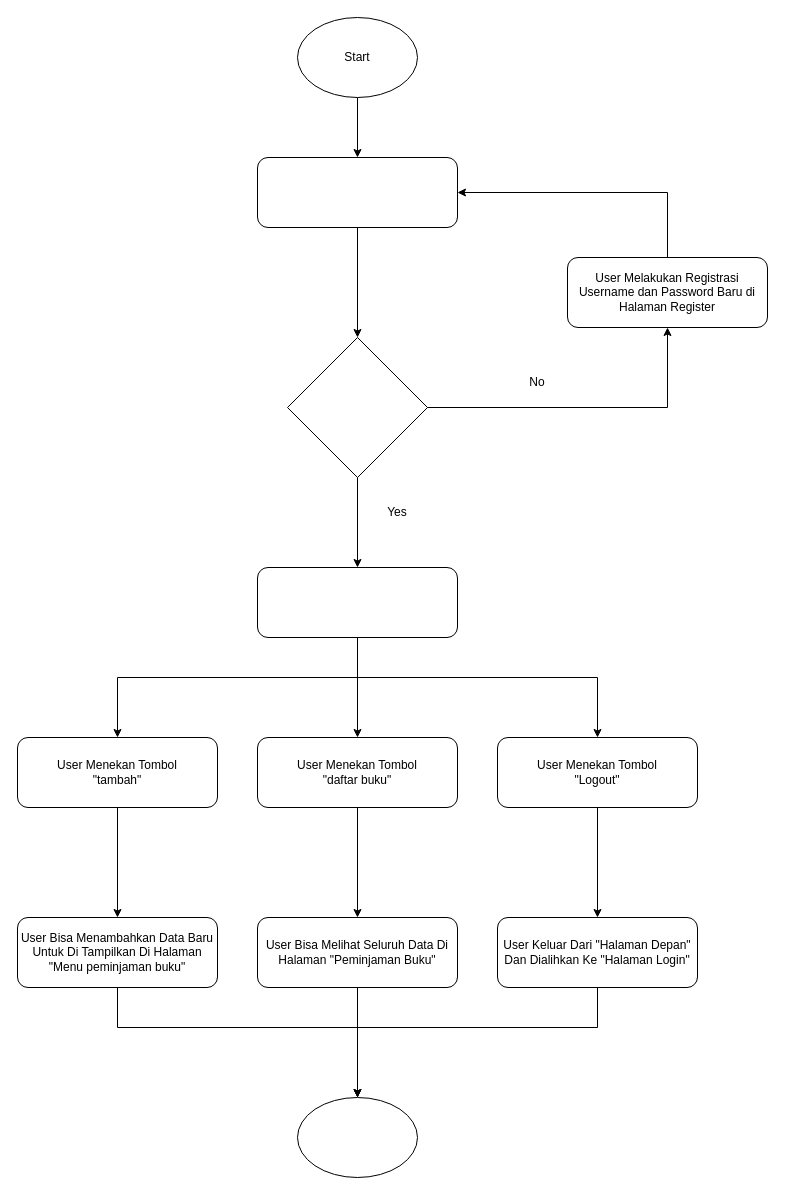
Image size: 785x1195. Some labels were removed from this diagram. Here are the shapes that lost their labels. From the top down, the centre of each, then its label:
point 357,192: User Melakukan Input Username dan Password di Halaman Login
point 357,407: Berhasil Login?
point 357,602: User Masuk Ke Halaman Depan
point 357,1137: End
